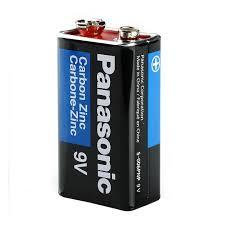9V Battery: (56, 20, 161, 212)
